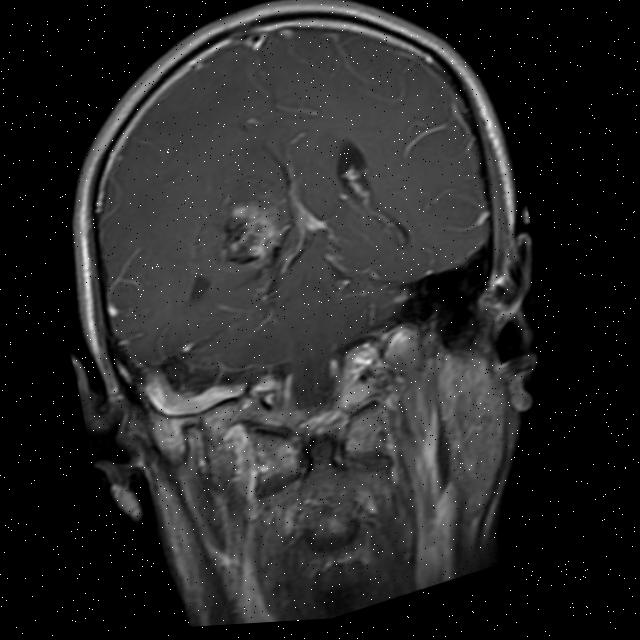Glioma: (208, 187, 297, 277)
